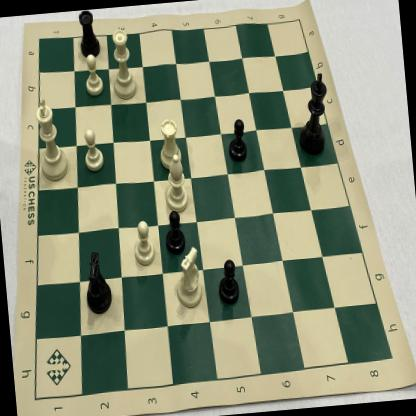bishop: (160, 150, 192, 216)
king: (29, 92, 72, 186), (292, 70, 336, 160)
knight: (74, 245, 116, 320), (172, 244, 209, 311)
pawn: (130, 214, 159, 272), (160, 204, 190, 257), (78, 124, 108, 176), (214, 256, 244, 308), (223, 116, 251, 166), (82, 52, 107, 101)
queen: (106, 22, 142, 104)
rook: (153, 112, 187, 174), (75, 8, 104, 63)
